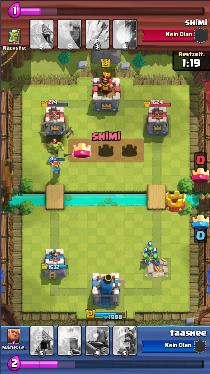ally_goblin_cage: (47, 141, 64, 155)
ally_valkyrie: (49, 157, 62, 174)
enemy_spear_goblin: (150, 253, 162, 266), (140, 252, 151, 265), (146, 244, 154, 256)
